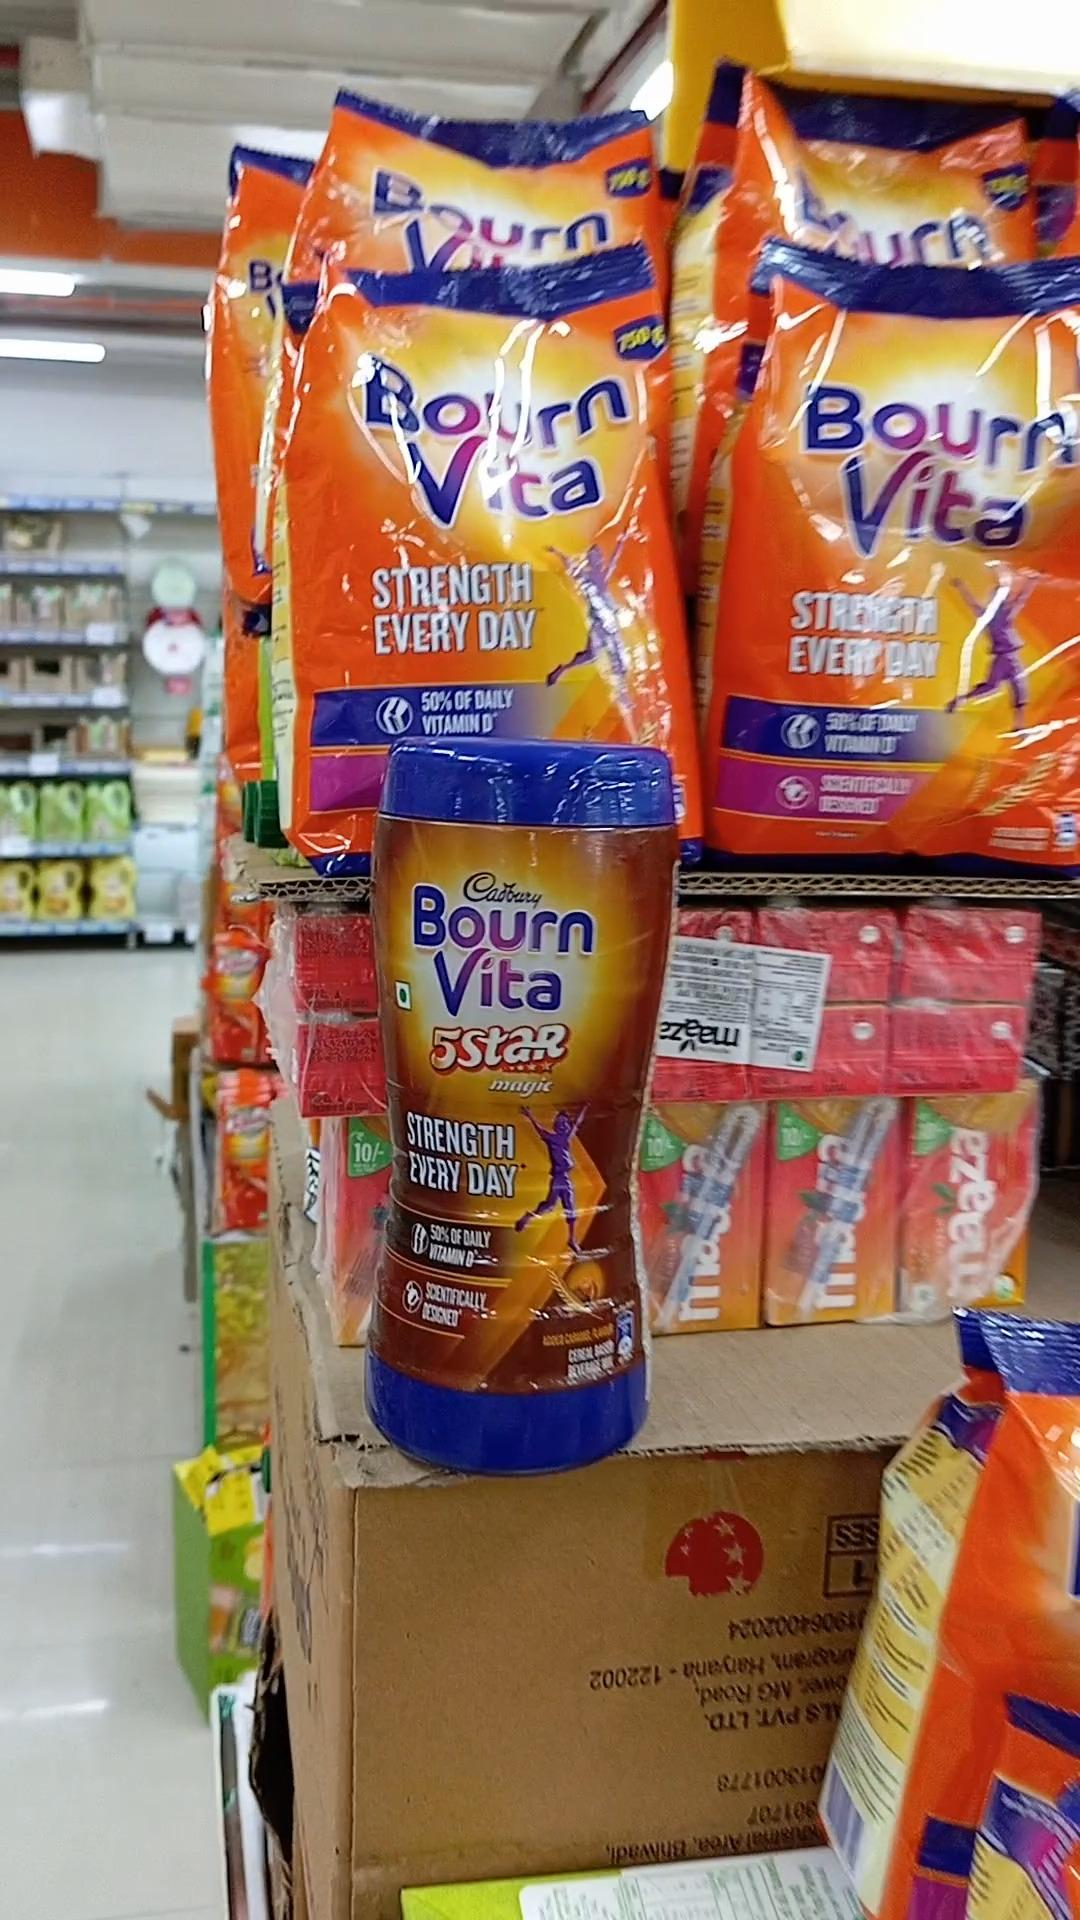BOURN_VITA_FIVE_STAR_MAGIC_500_G_JAR: (369, 742, 682, 1462)
